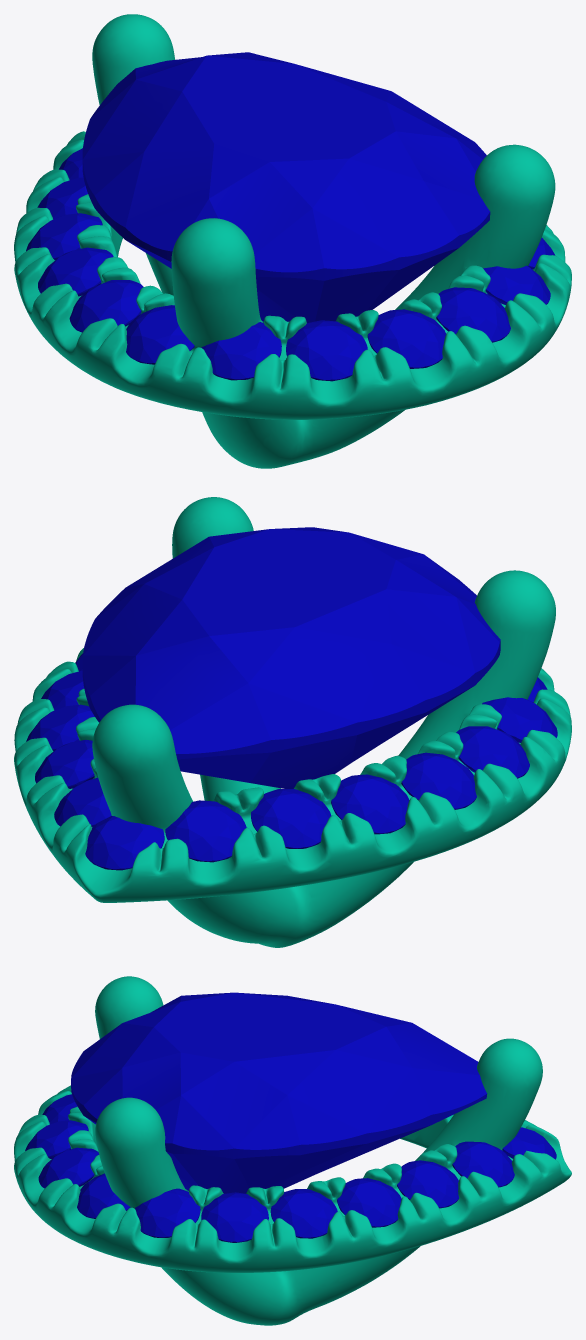
The model's file is Pear.glb.
3 renders of one model, top to bottom at view 1: azimuth 30°, elevation 25°; view 2: azimuth 150°, elevation 25°; view 3: azimuth 270°, elevation 25°, orthographic. The views are drawn at different scales.
Visible parts, largest first — view 1: Diamond_Pear, /Pear Single Halo.3dm, Diamond_Round (×10); view 2: Diamond_Pear, /Pear Single Halo.3dm, Diamond_Round (×11); view 3: Diamond_Pear, /Pear Single Halo.3dm, Diamond_Round (×11).
Boxes of the visible parts, x1,y1,x2,y2 form: Diamond_Pear: (82, 52, 490, 323); /Pear Single Halo.3dm: (14, 14, 571, 468); Diamond_Round (×10): (26, 177, 550, 381); Diamond_Pear: (82, 527, 500, 788); /Pear Single Halo.3dm: (14, 497, 571, 947); Diamond_Round (×11): (26, 670, 557, 870); Diamond_Pear: (71, 992, 487, 1193); /Pear Single Halo.3dm: (14, 976, 571, 1325); Diamond_Round (×11): (25, 1094, 556, 1242).
Bounding box in the file's own units: 9.4 × 6.8 × 11.69.
